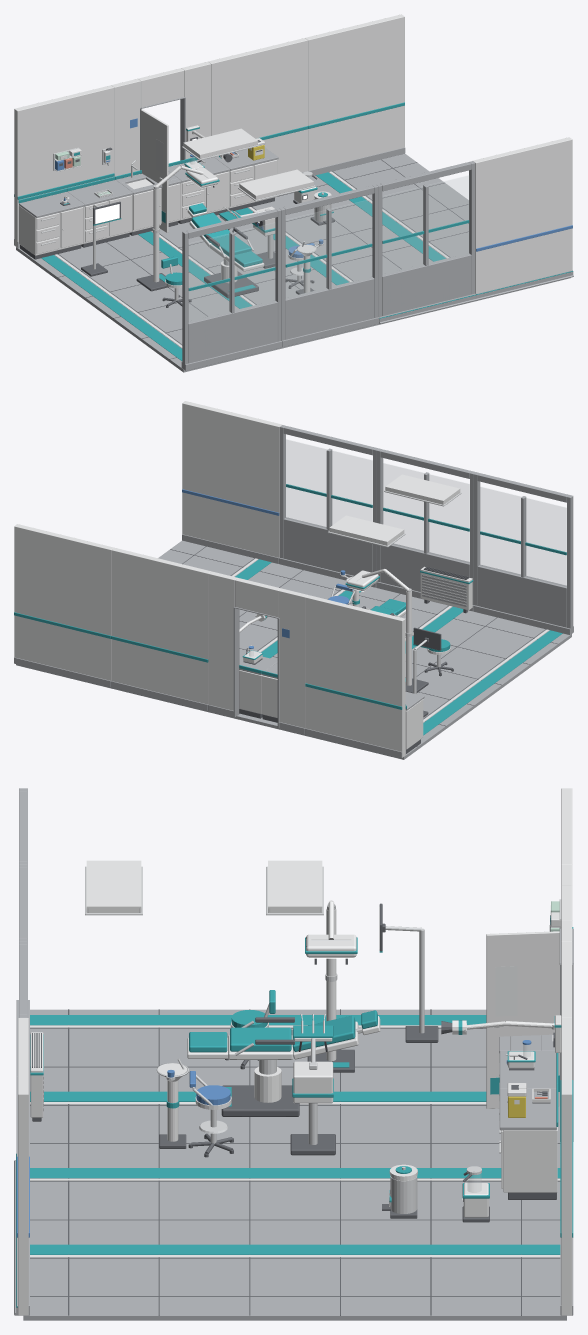
File: Surgery, mid appointment (Dental Practice and Surgery).glb
3 renders of one model, top to bottom at view 1: azimuth 30°, elevation 25°; view 2: azimuth 150°, elevation 25°; view 3: azimuth 270°, elevation 25°, orthographic. The views are drawn at different scales.
Parts seen in each view (by area): view 1: 019-corridor-wall-module-blue/0, 015-corridor-wall-module/0, 014-corridor-wall-module/0, 012-corridor-wall-module/0, 016-glazed-partition-module/0, 017-glazed-partition-module/0, 018-glazed-partition-module/0, 017-glazed-partition-module/1, 016-glazed-partition-module/1, 018-glazed-partition-module/1, 013-surgery-door-module-open/0, 001-clinical-floor-tile/0 (+38 smaller); view 2: 012-corridor-wall-module/0, 019-corridor-wall-module-blue/0, 014-corridor-wall-module/0, 015-corridor-wall-module/0, 013-surgery-door-module-open/0, 016-glazed-partition-module/0, 018-glazed-partition-module/0, 016-glazed-partition-module/1, 018-glazed-partition-module/1, 017-glazed-partition-module/0, 017-glazed-partition-module/1, 002-clinical-floor-tile/0 (+22 smaller); view 3: 010-clinical-floor-tile/0, 009-clinical-floor-tile/0, 011-clinical-floor-tile/0, 007-clinical-floor-tile/0, 008-clinical-floor-tile/0, 005-clinical-floor-tile/0, 002-clinical-floor-tile/0, 013-surgery-door-module-open/door-a (×2), 004-clinical-floor-tile/0, 006-clinical-floor-tile/0, 003-clinical-floor-tile/0, 000-clinical-floor-tile/0 (+44 smaller).
Boxes of the visible parts, x1=… form: 019-corridor-wall-module-blue/0: x1=473, y1=137, x2=572, y2=293; 015-corridor-wall-module/0: x1=305, y1=14, x2=404, y2=170; 014-corridor-wall-module/0: x1=208, y1=38, x2=307, y2=174; 012-corridor-wall-module/0: x1=14, y1=85, x2=114, y2=247; 016-glazed-partition-module/0: x1=181, y1=208, x2=282, y2=370; 017-glazed-partition-module/0: x1=279, y1=184, x2=379, y2=346; 018-glazed-partition-module/0: x1=376, y1=161, x2=475, y2=317; 017-glazed-partition-module/1: x1=286, y1=199, x2=372, y2=298; 016-glazed-partition-module/1: x1=189, y1=223, x2=275, y2=322; 018-glazed-partition-module/1: x1=382, y1=175, x2=468, y2=274; 013-surgery-door-module-open/0: x1=111, y1=61, x2=210, y2=179; 001-clinical-floor-tile/0: x1=71, y1=266, x2=223, y2=331; 012-corridor-wall-module/0: x1=305, y1=595, x2=405, y2=757; 019-corridor-wall-module-blue/0: x1=182, y1=401, x2=282, y2=557; 014-corridor-wall-module/0: x1=111, y1=547, x2=210, y2=704; 015-corridor-wall-module/0: x1=14, y1=524, x2=113, y2=680; 013-surgery-door-module-open/0: x1=208, y1=571, x2=308, y2=727; 016-glazed-partition-module/0: x1=473, y1=472, x2=573, y2=634; 018-glazed-partition-module/0: x1=279, y1=425, x2=378, y2=587; 016-glazed-partition-module/1: x1=480, y1=487, x2=566, y2=586; 018-glazed-partition-module/1: x1=286, y1=439, x2=372, y2=527; 017-glazed-partition-module/0: x1=376, y1=448, x2=475, y2=611; 017-glazed-partition-module/1: x1=383, y1=463, x2=469, y2=562; 002-clinical-floor-tile/0: x1=419, y1=611, x2=571, y2=677; 010-clinical-floor-tile/0: x1=204, y1=1239, x2=385, y2=1320; 009-clinical-floor-tile/0: x1=385, y1=1239, x2=566, y2=1320; 011-clinical-floor-tile/0: x1=23, y1=1239, x2=204, y2=1320; 007-clinical-floor-tile/0: x1=204, y1=1162, x2=385, y2=1239; 008-clinical-floor-tile/0: x1=30, y1=1162, x2=204, y2=1239; 005-clinical-floor-tile/0: x1=30, y1=1086, x2=204, y2=1162; 002-clinical-floor-tile/0: x1=30, y1=1009, x2=204, y2=1086; 013-surgery-door-module-open/door-a (×2): x1=486, y1=931, x2=559, y2=1108; 004-clinical-floor-tile/0: x1=204, y1=1086, x2=385, y2=1162; 006-clinical-floor-tile/0: x1=385, y1=1162, x2=560, y2=1239; 003-clinical-floor-tile/0: x1=385, y1=1086, x2=560, y2=1162; 000-clinical-floor-tile/0: x1=385, y1=1009, x2=486, y2=1086.
Size of the model in its own units: 8 by 2.76 by 6.18.
